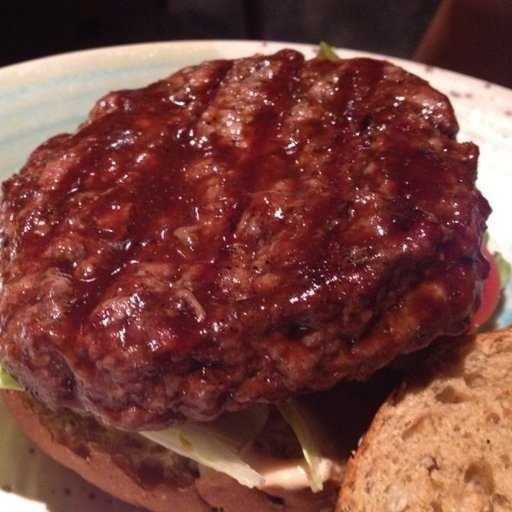hamburger: (1, 36, 492, 447)
